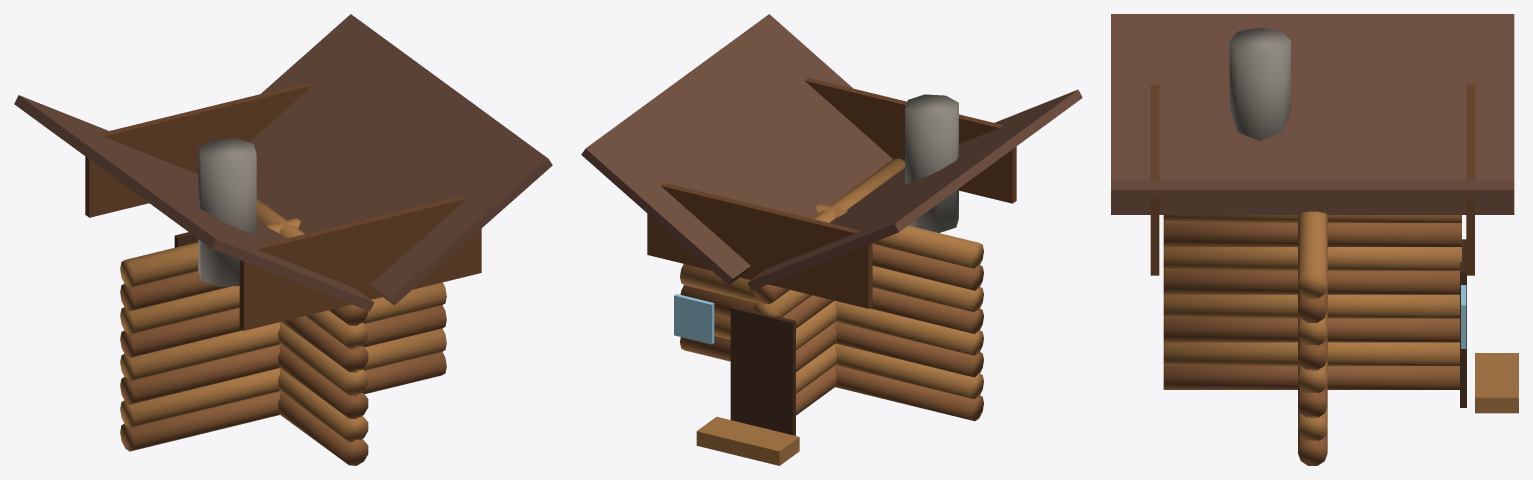
Rendered from cabin.glb.
The picture shows the model from 3 angles, left to right: view 1: azimuth 30°, elevation 25°; view 2: azimuth 150°, elevation 25°; view 3: azimuth 270°, elevation 25°; orthographic projection. The views are drawn at different scales.
Parts seen in each view (by area): view 1: cabin; view 2: cabin; view 3: cabin.
Boxes of the visible parts, x1,y1,x2,y2 form: cabin: [14, 14, 552, 465]; cabin: [581, 14, 1082, 465]; cabin: [1111, 14, 1518, 465].
Size of the model in its own units: 4.59 by 3.9 by 4.65.
